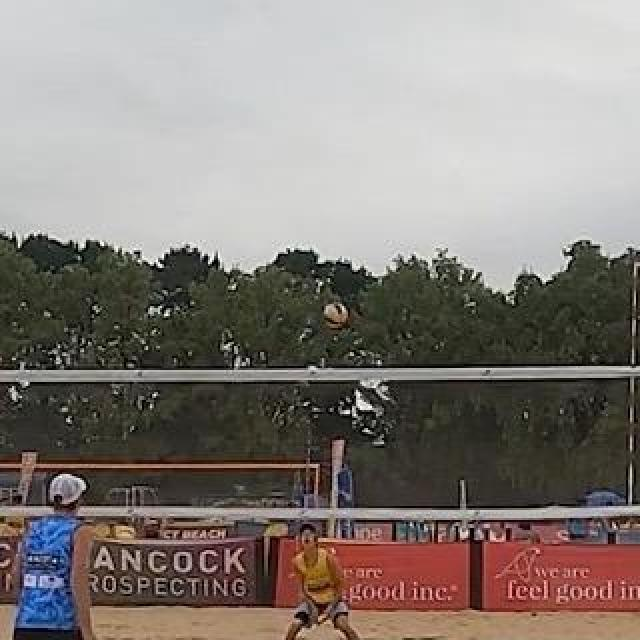volleyball: (323, 303, 347, 329)
